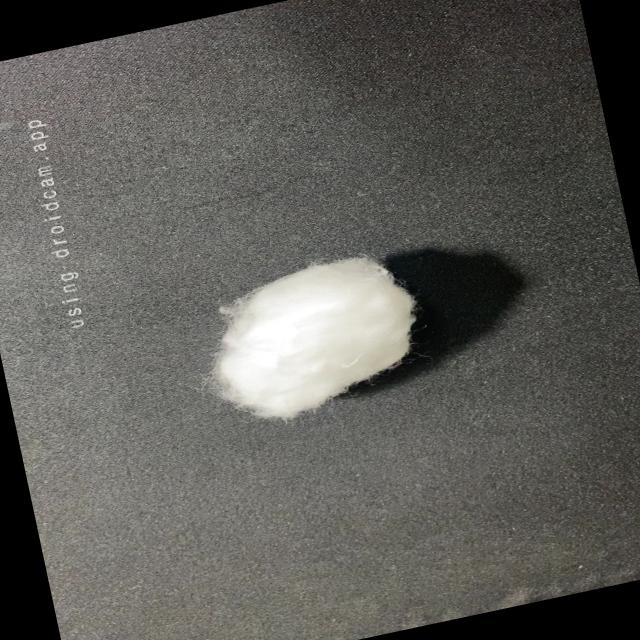cotton: (182, 237, 439, 446)
